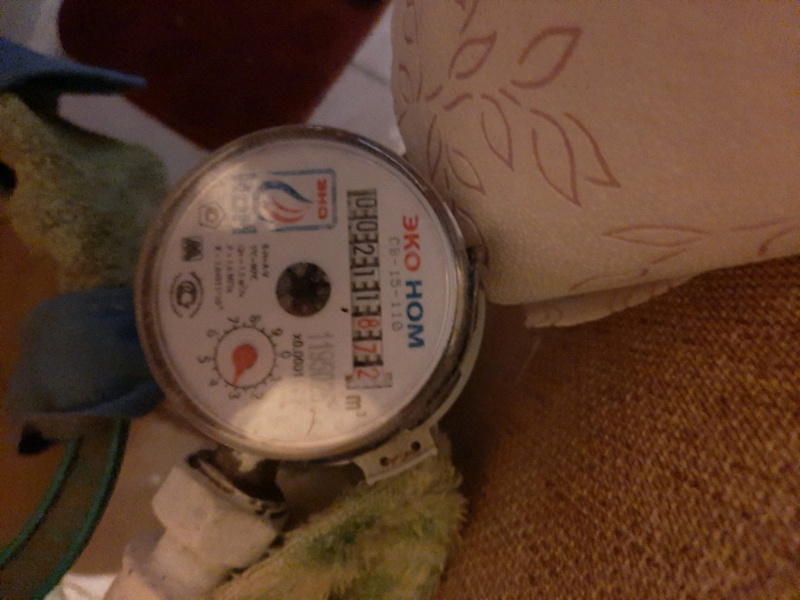meter: (332, 192, 389, 380)
